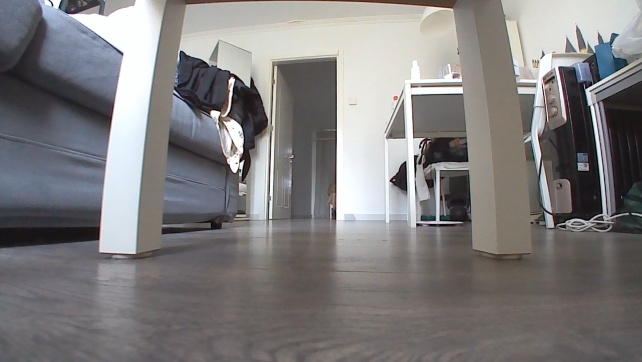dining_table: (383, 50, 594, 229)
door_anno: (257, 59, 294, 222)
sofa1: (0, 0, 257, 232)
wire: (555, 210, 640, 235), (536, 141, 555, 215)
